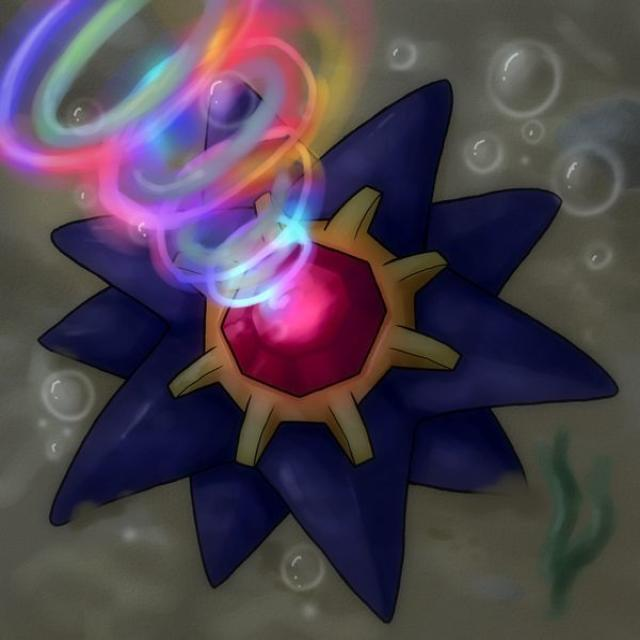Starmie: (67, 98, 548, 537)
